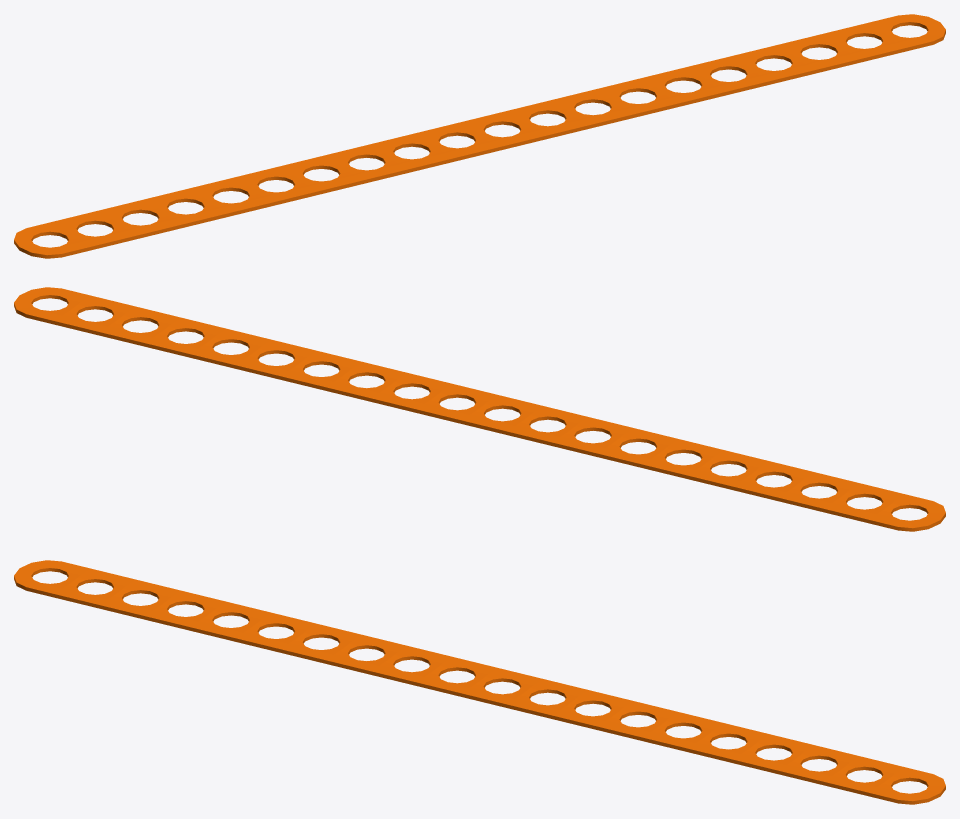
File: TwentyLongYellow.fbx
The picture shows the model from 3 angles, top to bottom: view 1: azimuth 30°, elevation 25°; view 2: azimuth 150°, elevation 25°; view 3: azimuth 330°, elevation 25°; orthographic projection.
Parts seen in each view (by area): view 1: Blue20; view 2: Blue20; view 3: Blue20.
Part boxes in pixels (x1,y1,x2,y2): Blue20: (14, 14, 945, 258); Blue20: (14, 287, 945, 531); Blue20: (14, 560, 945, 804).
Size of the model in its own units: 52.03 by 0.1942 by 3.45.
